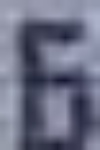B_RUS: (0, 0, 99, 149)
